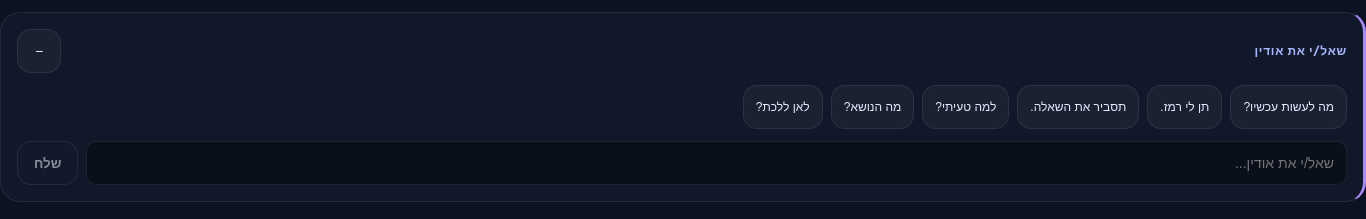
Scenario: AskOdinPanel (general educational assistant pass) › collapse/expand toggle (dialogue UI polish pass) › hides the body (question buttons and free-text form) when the collapse button is clicked
Click the button with test id "ask-odin-collapse-button": (39, 51) [17, 29, 61, 73]
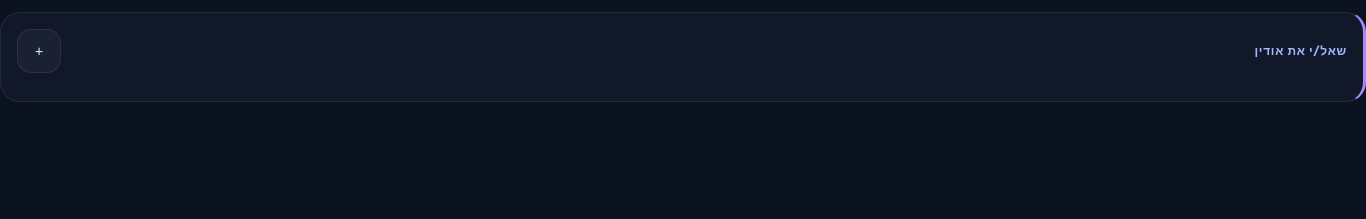
Expected: the button with test id "ask-odin-what-now" is gone
Expected: the field with test id "ask-odin-free-text-input" is gone
Expected: the button with test id "ask-odin-free-text-submit" is gone
